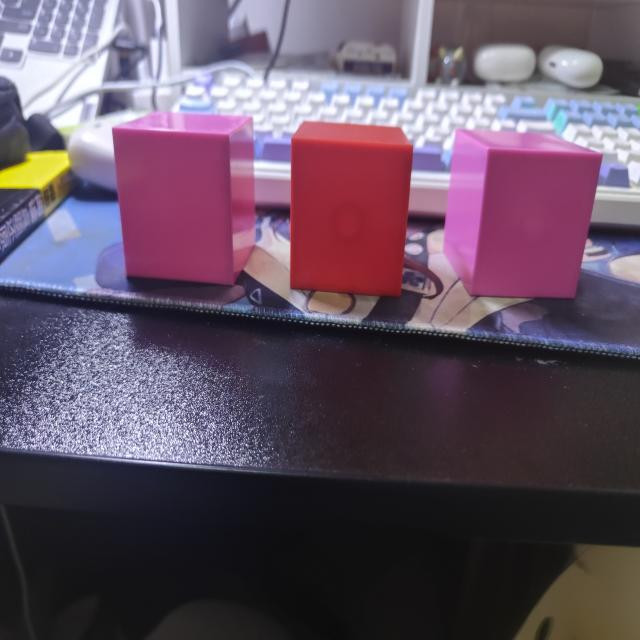pink: (444, 128, 603, 302), (109, 108, 258, 285)
red: (286, 121, 414, 307)
